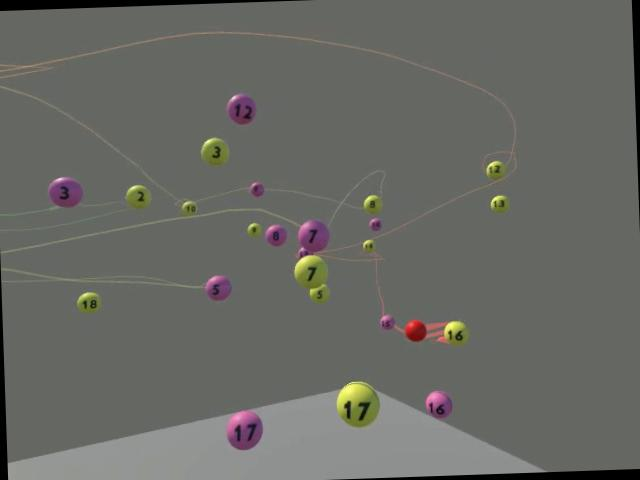ball_02_yellow: (124, 185, 150, 209)
ball_03_pink: (48, 176, 82, 208)
ball_03_yellow: (200, 138, 230, 166)
ball_05_pink: (204, 274, 231, 301)
ball_05_yellow: (308, 283, 330, 304)
ball_07_pink: (296, 218, 330, 252)
ball_07_yellow: (293, 255, 328, 288)
ball_08_pink: (264, 224, 288, 246)
ball_08_yellow: (363, 194, 382, 214)
ball_09_pink: (249, 182, 263, 196)
ball_09_yellow: (246, 222, 262, 238)
ball_10_yellow: (181, 200, 198, 216)
ball_12_pink: (226, 92, 256, 125)
ball_12_yellow: (485, 160, 505, 180)
ball_13_yellow: (490, 194, 510, 213)
ball_14_pink: (368, 217, 382, 231)
ball_14_yellow: (362, 239, 374, 252)
ball_15_pink: (380, 314, 394, 328)
ball_16_pink: (424, 390, 452, 418)
ball_16_yellow: (443, 320, 469, 346)
ball_17_pink: (225, 410, 263, 450)
ball_17_yellow: (334, 380, 380, 428)
ball_18_yellow: (76, 292, 102, 314)
ball_unknown: (298, 246, 310, 257)
user_cursor: (405, 320, 428, 342)
